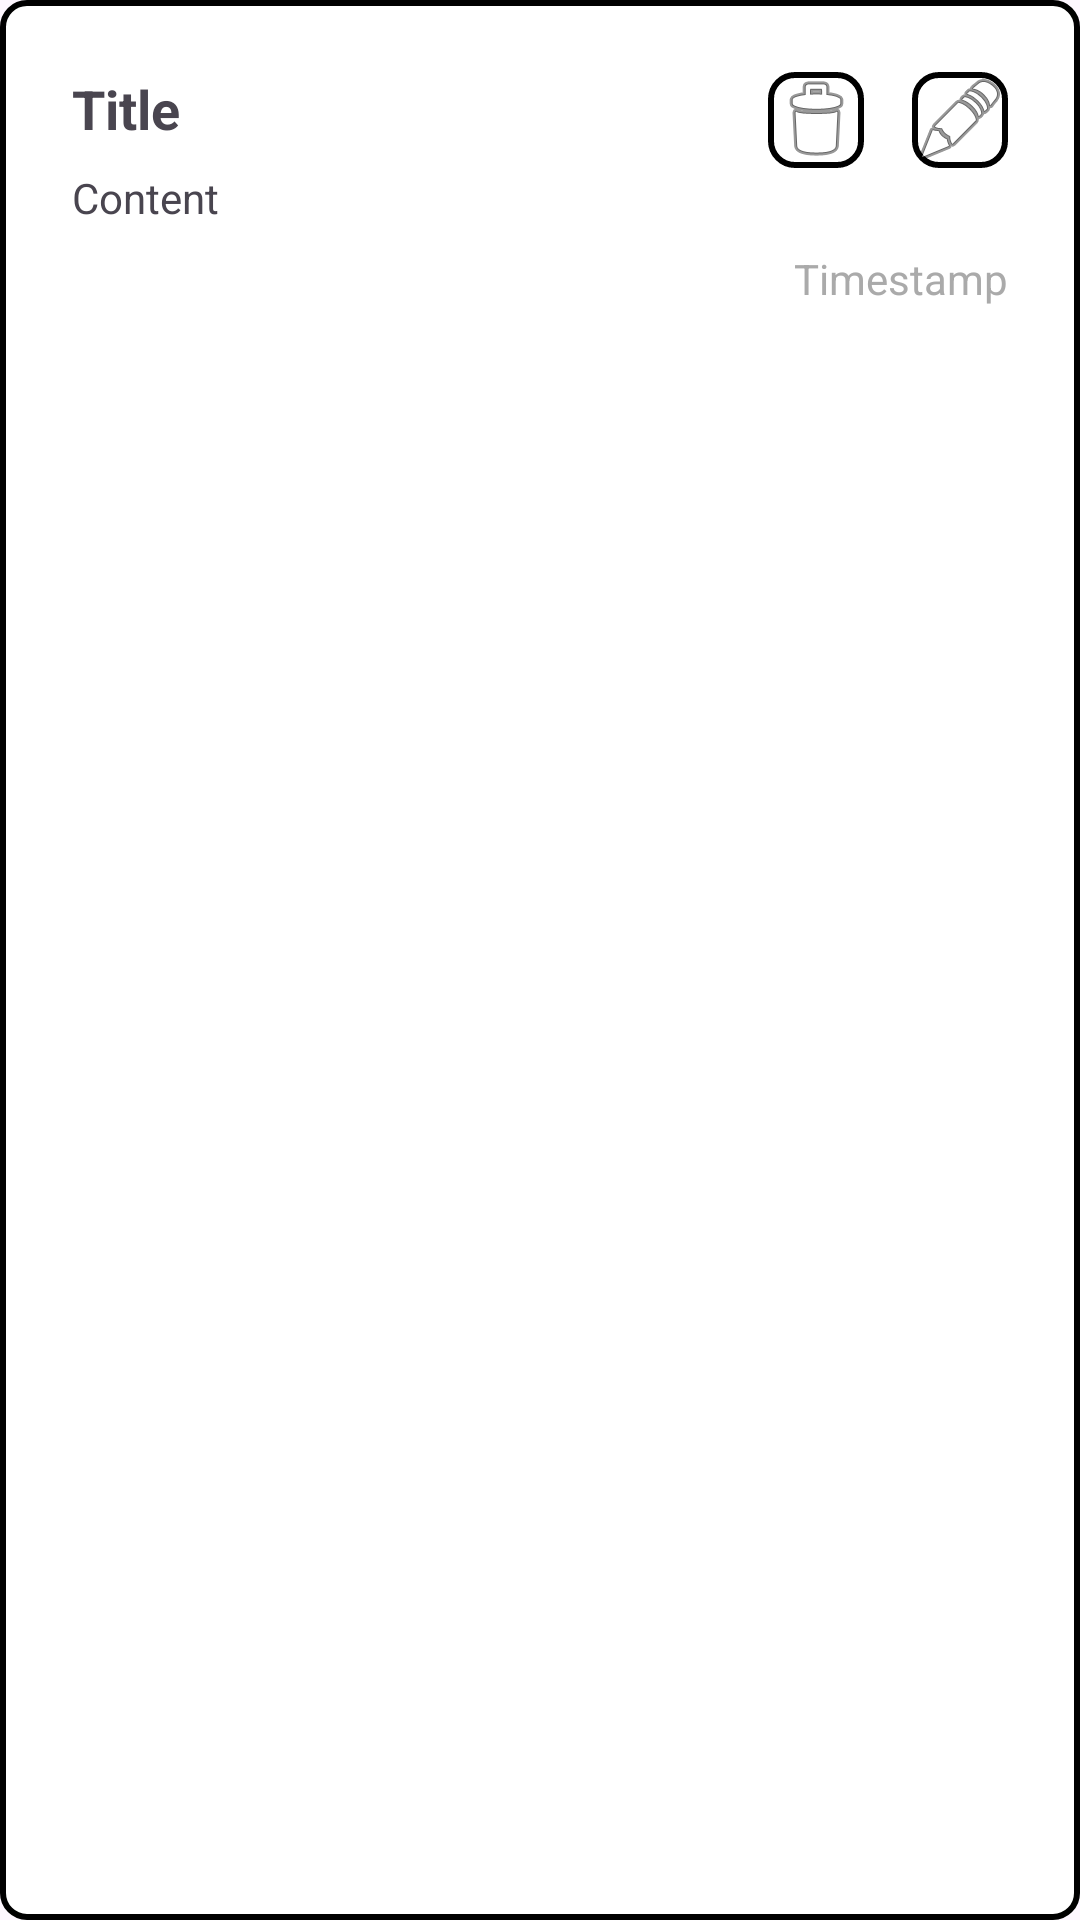

Named icons in this screenshot (1080 × 1920) and their bounding boxes, (x1, y1, x2, y2):
Delete: (768, 72, 864, 168)
Edit: (912, 72, 1008, 168)
